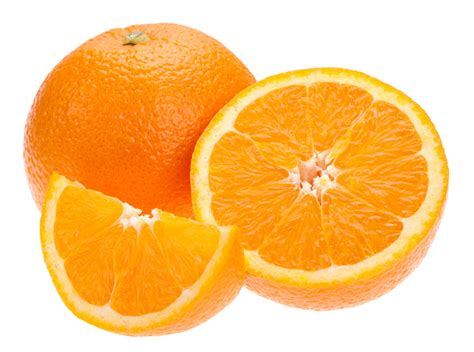orange: (22, 20, 251, 202)
